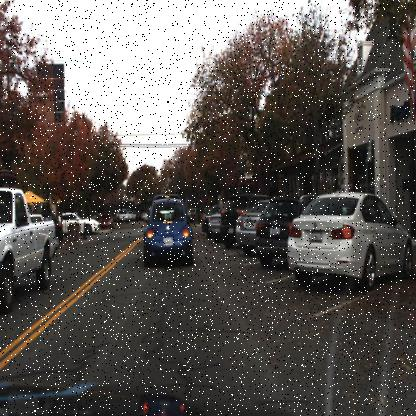car: (286, 191, 412, 284), (0, 187, 56, 320), (253, 190, 321, 269), (254, 193, 306, 268), (142, 196, 194, 266), (235, 196, 268, 256), (58, 209, 101, 238), (206, 212, 228, 236), (114, 206, 131, 228)
